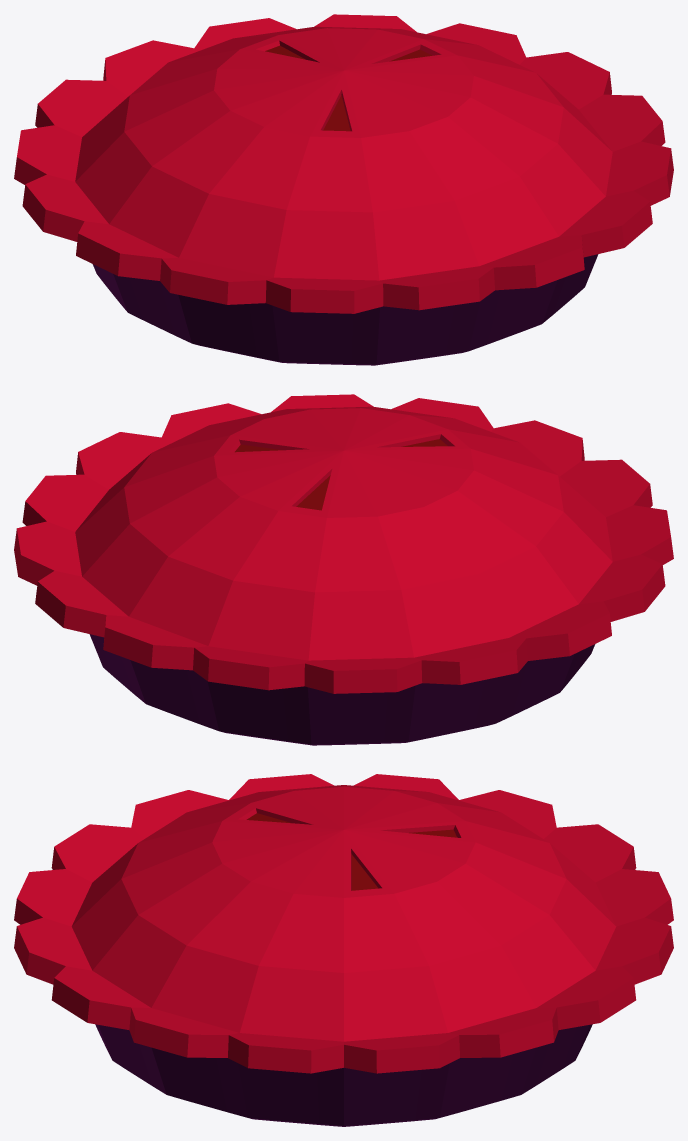
File: Pie_01.fbx
3 renders of one model, top to bottom at view 1: azimuth 30°, elevation 25°; view 2: azimuth 150°, elevation 25°; view 3: azimuth 270°, elevation 25°, orthographic.
Parts seen in each view (by area): view 1: Pie_01; view 2: Pie_01; view 3: Pie_01.
Part boxes in pixels (left/top/right/bottom): Pie_01: left=14, top=14, right=673, bottom=365; Pie_01: left=14, top=394, right=673, bottom=745; Pie_01: left=14, top=774, right=673, bottom=1126.
Bounding box in the file's own units: 9.78 × 3.22 × 9.78.
